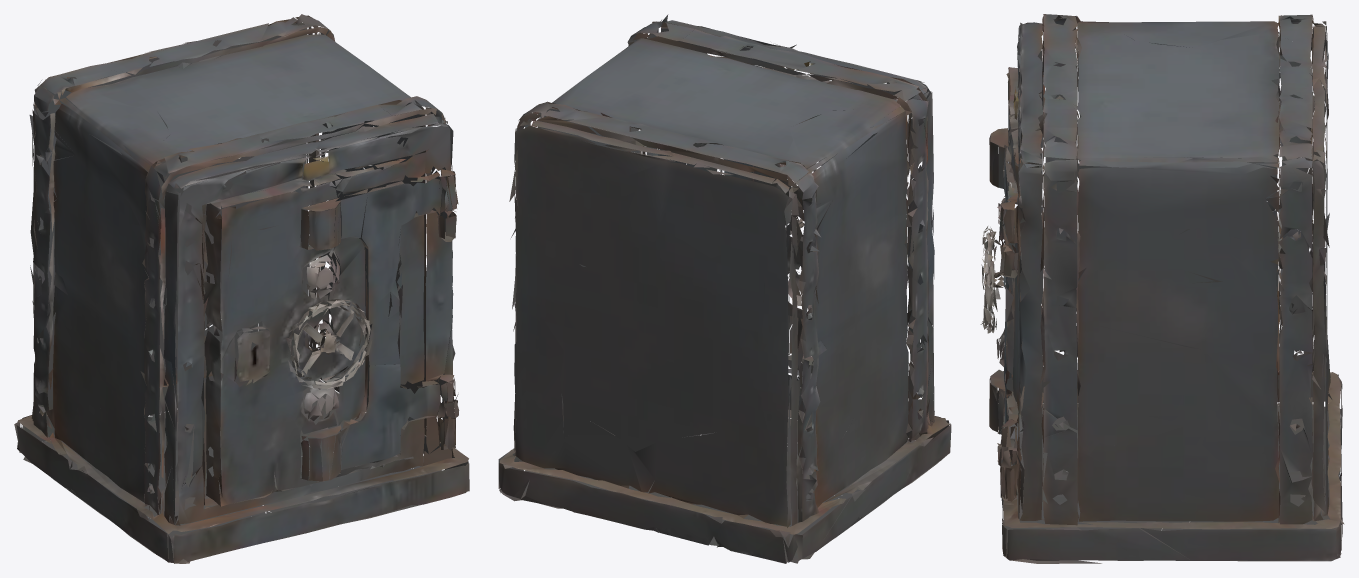
File: safe_vault.glb
3 views of the same model, side by side, from view 1: azimuth 30°, elevation 25°; view 2: azimuth 150°, elevation 25°; view 3: azimuth 270°, elevation 25° (orthographic). The views are drawn at different scales.
Visible parts, largest first — view 1: safe_vault; view 2: safe_vault; view 3: safe_vault.
Boxes of the visible parts, box(x1,y1,x2,y2) form: safe_vault: box(14, 14, 469, 563); safe_vault: box(498, 14, 951, 563); safe_vault: box(980, 14, 1344, 563).
Bounding box in the file's own units: 1.29 × 1.54 × 1.24.
1 material, 1 textured.
